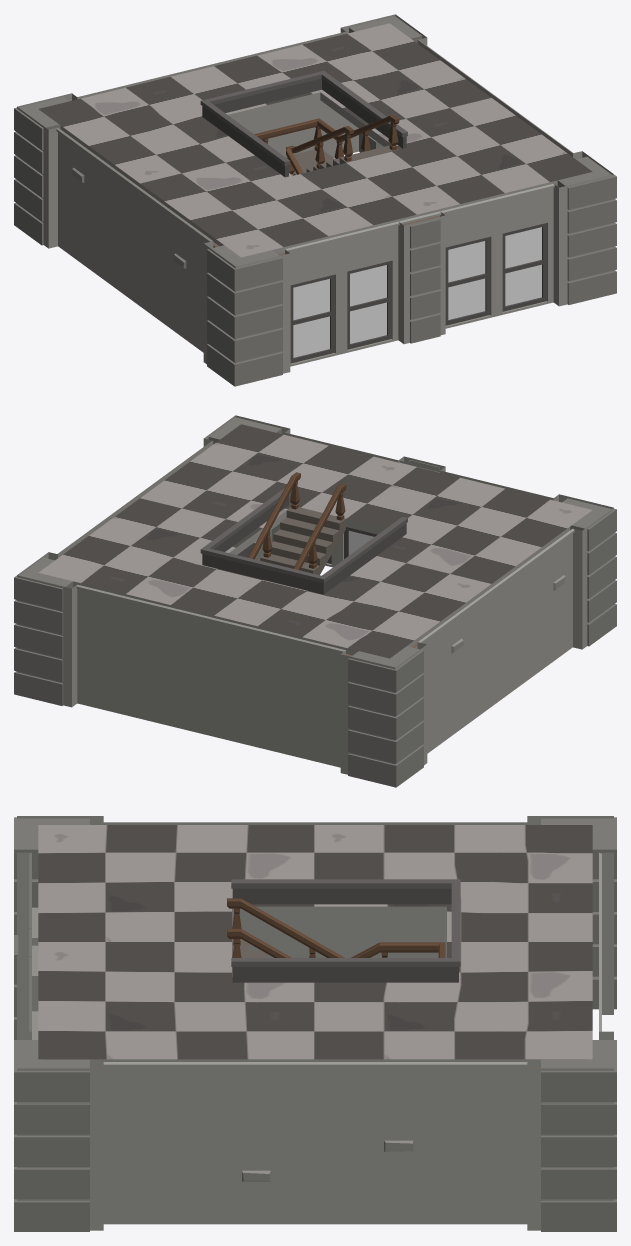
Rendered from SM_Bldg_City_High-Rise_05_Mid_03.fbx.
3 renders of one model, top to bottom at view 1: azimuth 30°, elevation 25°; view 2: azimuth 150°, elevation 25°; view 3: azimuth 270°, elevation 25°, orthographic. The views are drawn at different scales.
Parts seen in each view (by area): view 1: SM_Bldg_City_High-Rise_05_Mid_03, SM_Bldg_City_High-Rise_05_Mid_03_Glass; view 2: SM_Bldg_City_High-Rise_05_Mid_03; view 3: SM_Bldg_City_High-Rise_05_Mid_03.
Part boxes in pixels (<box>): SM_Bldg_City_High-Rise_05_Mid_03: <box>14,14,616,386</box>; SM_Bldg_City_High-Rise_05_Mid_03_Glass: <box>293,227,541,357</box>; SM_Bldg_City_High-Rise_05_Mid_03: <box>14,415,616,787</box>; SM_Bldg_City_High-Rise_05_Mid_03: <box>14,816,616,1231</box>.
Bounding box in the file's own units: 1010 × 384 × 1010.
